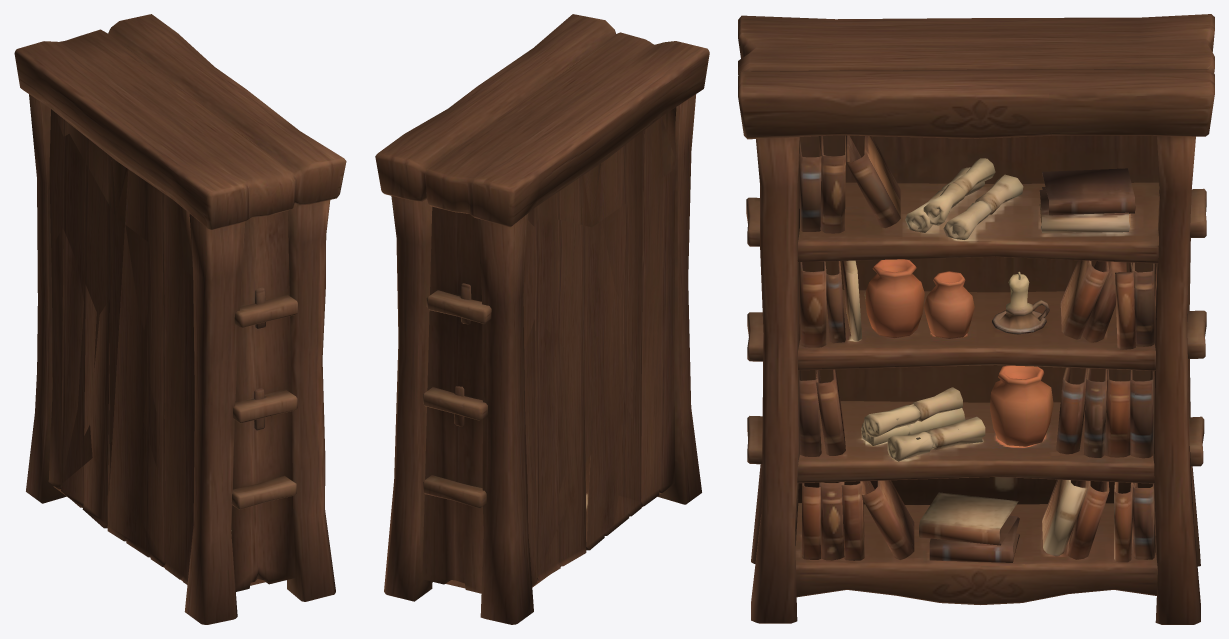
The picture shows the model from 3 angles, left to right: view 1: azimuth 30°, elevation 25°; view 2: azimuth 150°, elevation 25°; view 3: azimuth 270°, elevation 25°; orthographic projection. The views are drawn at different scales.
Parts seen in each view (by area): view 1: tripo_node_3562a411-4e61-43f1-87e0-edd15d997c2b; view 2: tripo_node_3562a411-4e61-43f1-87e0-edd15d997c2b; view 3: tripo_node_3562a411-4e61-43f1-87e0-edd15d997c2b.
Boxes of the visible parts, x1,y1,x2,y2 form: tripo_node_3562a411-4e61-43f1-87e0-edd15d997c2b: [14, 14, 346, 624]; tripo_node_3562a411-4e61-43f1-87e0-edd15d997c2b: [375, 14, 709, 624]; tripo_node_3562a411-4e61-43f1-87e0-edd15d997c2b: [738, 14, 1214, 624].
Bounding box in the file's own units: 0.3301 × 0.998 × 0.8027.
Materials: 1 (1 with a texture image).
